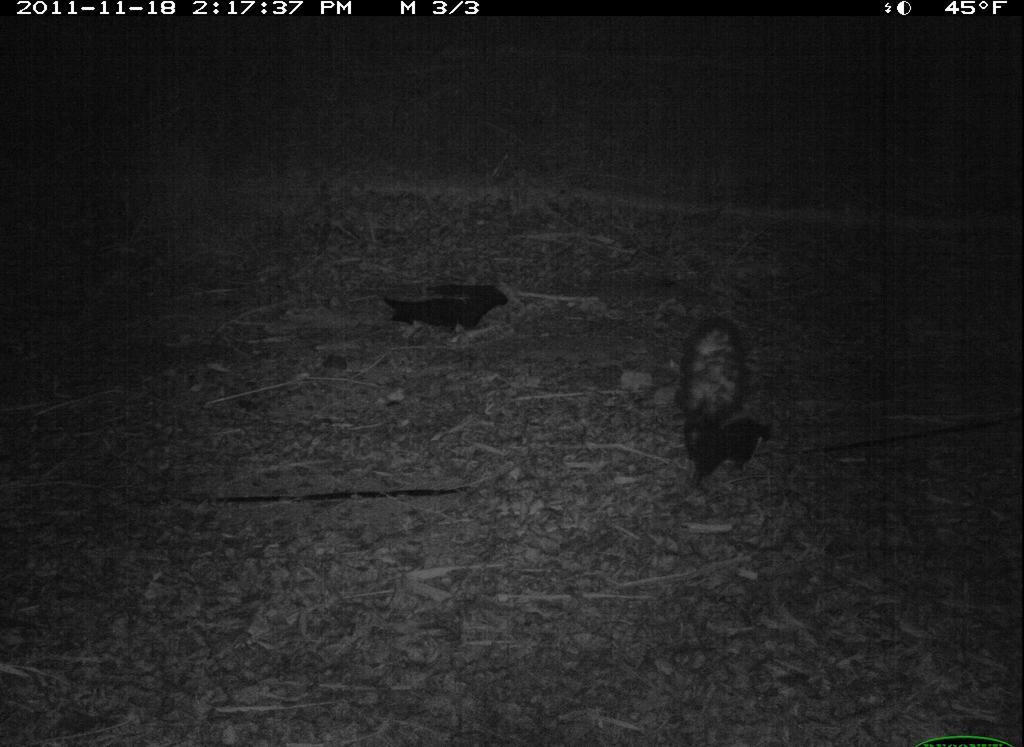skunk: (678, 315, 783, 501)
